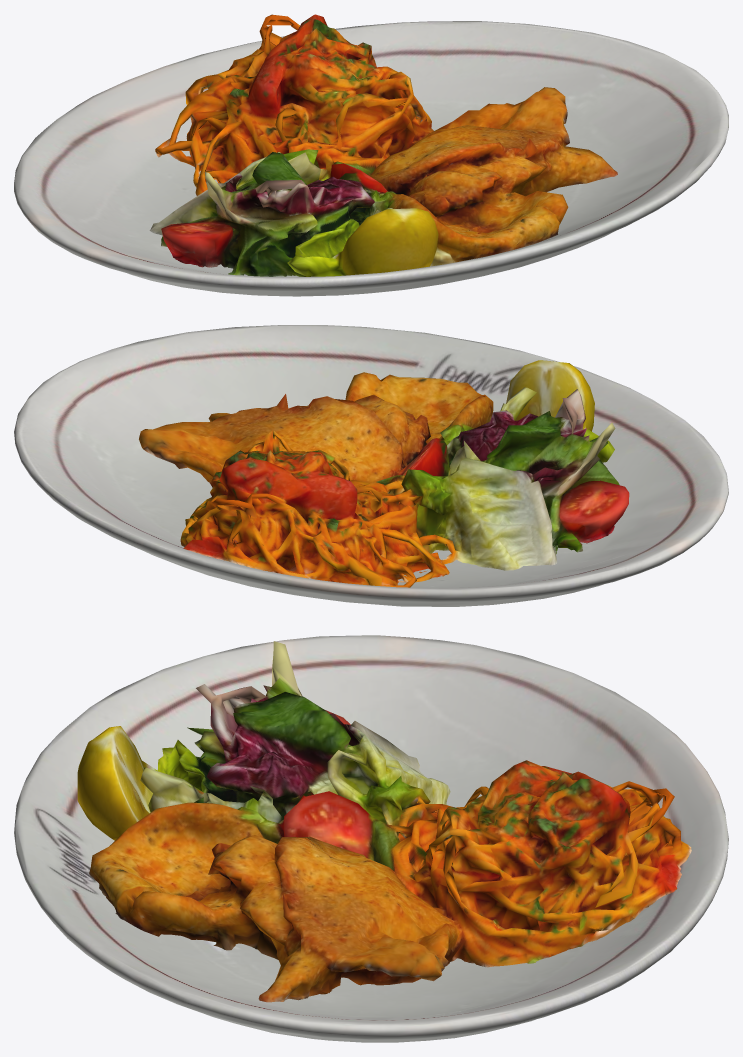
3 renders of one model, top to bottom at view 1: azimuth 30°, elevation 25°; view 2: azimuth 150°, elevation 25°; view 3: azimuth 270°, elevation 25°, orthographic. The views are drawn at different scales.
Parts seen in each view (by area): view 1: object.001; view 2: object.001; view 3: object.001.
Part boxes in pixels (left/top/right/bottom): object.001: left=14, top=14, right=728, bottom=296; object.001: left=14, top=325, right=728, bottom=606; object.001: left=14, top=635, right=728, bottom=1042.
Bounding box in the file's own units: 0.3491 × 0.0624 × 0.2685.
Materials: 1 (1 with a texture image).
